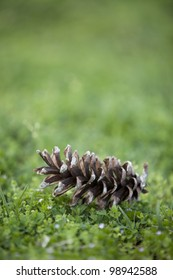Pc: (34, 144, 146, 212)
